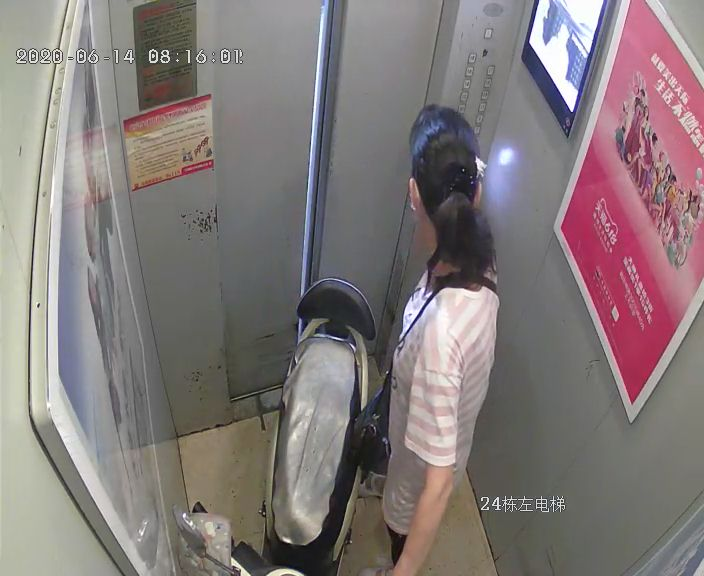Electric-bicycle: (173, 277, 376, 576)
